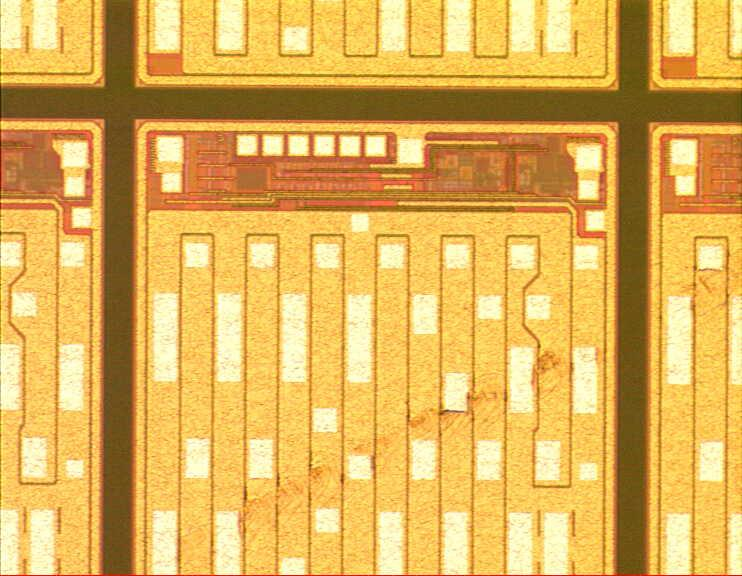SCRATCH: (211, 244, 742, 569)
